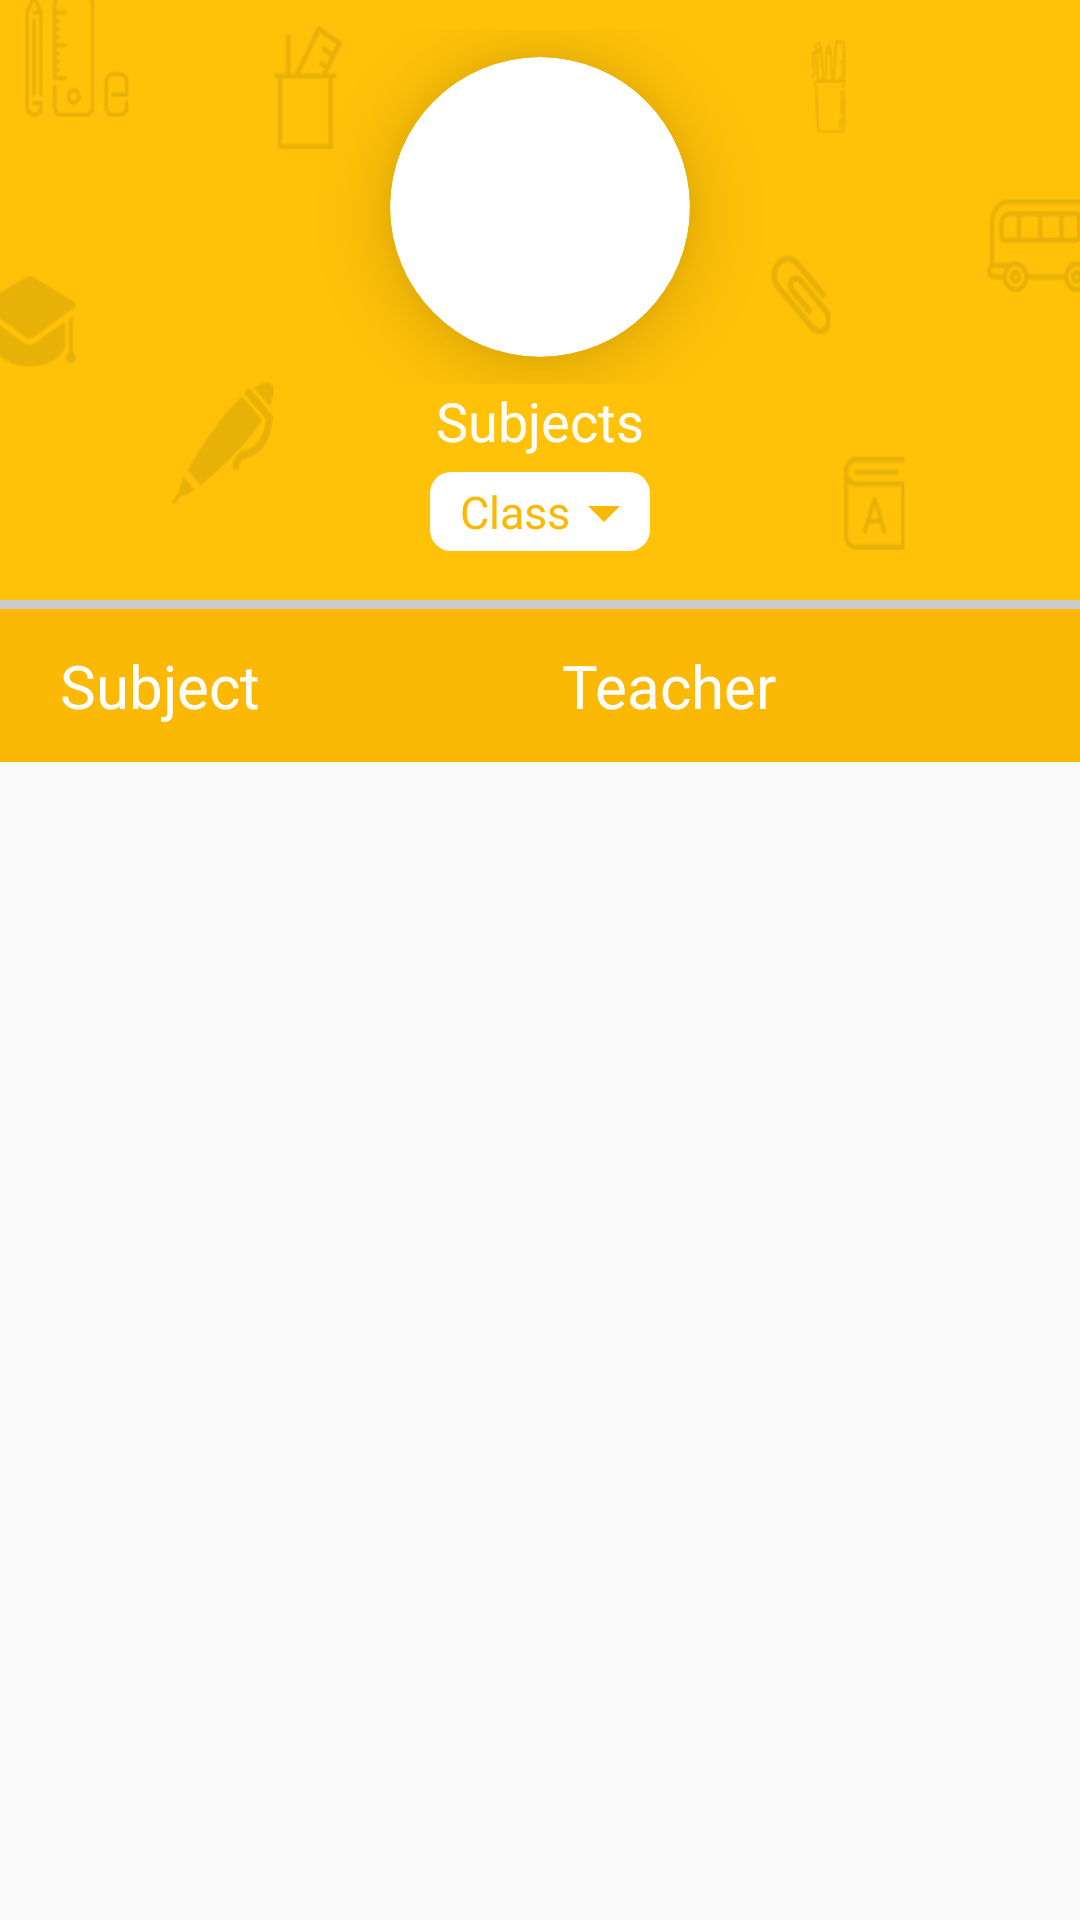

Icons on this 1080px×1920px Android screen, each with its box as (x1, y1, x2, y2):
drop down app: (588, 506, 620, 522)
